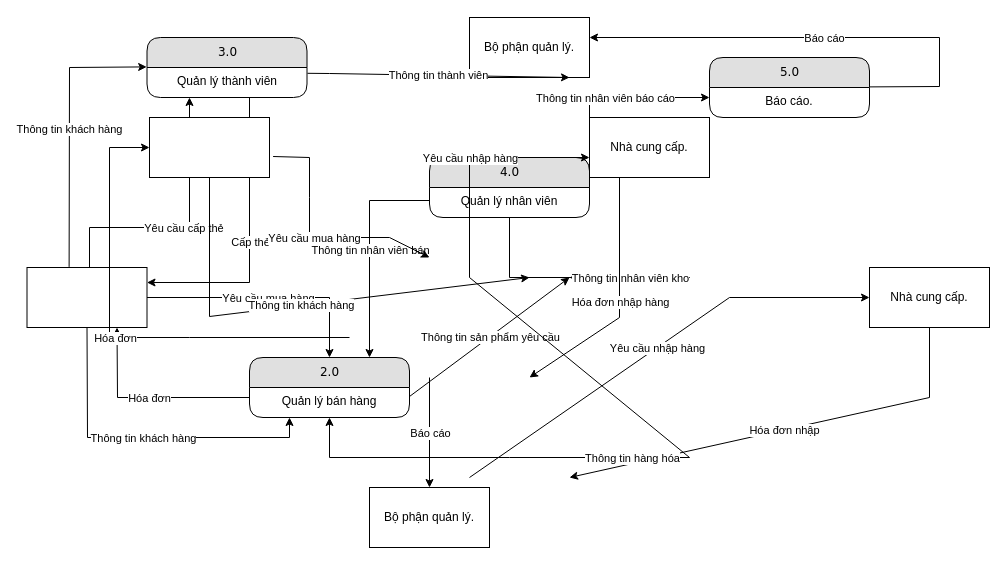
Image size: 1008x565. Some labels were removed from this diagram. Here are the shapes that lost their labels. From the top down, the centre of each, then its label:
At pixel 209 147: "Khách hàng.".
At pixel 86 297: "Khách hàng".
